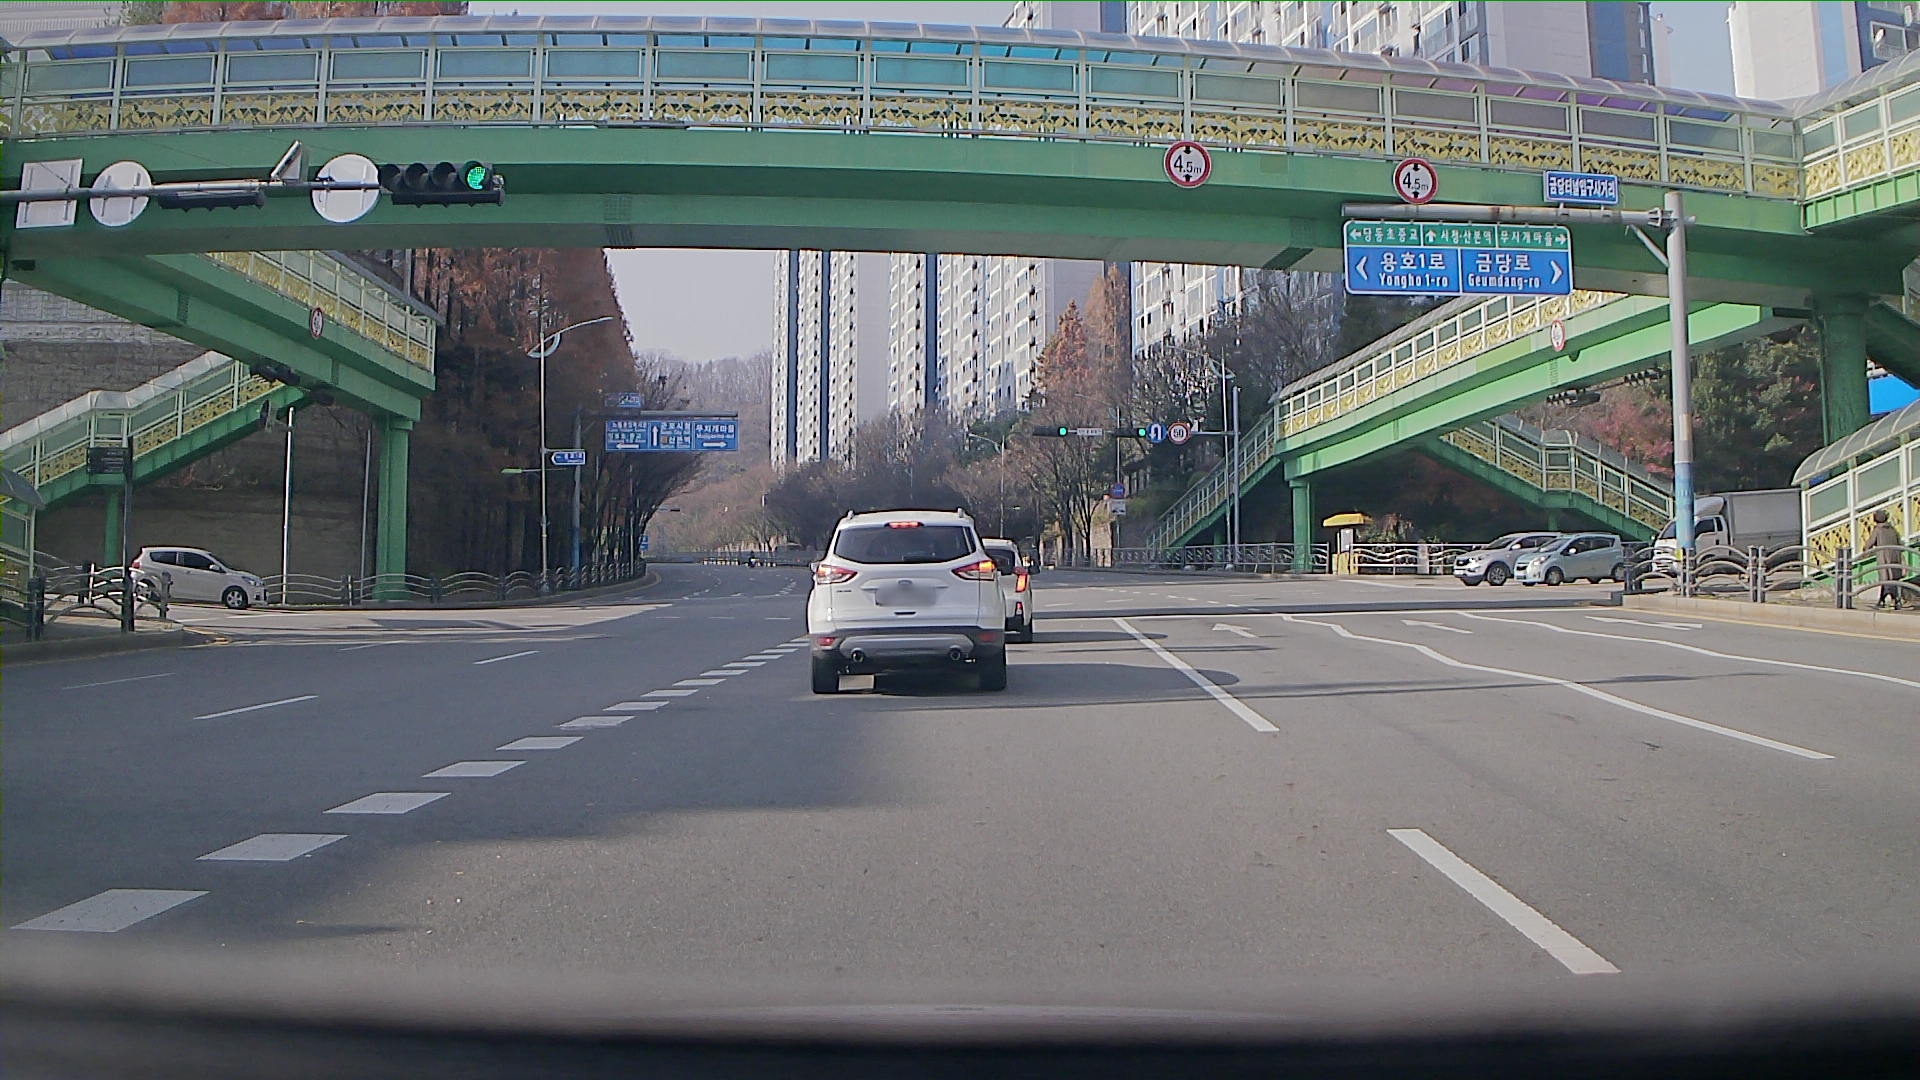trafficLight: (375, 161, 512, 208), (1034, 419, 1147, 442)
